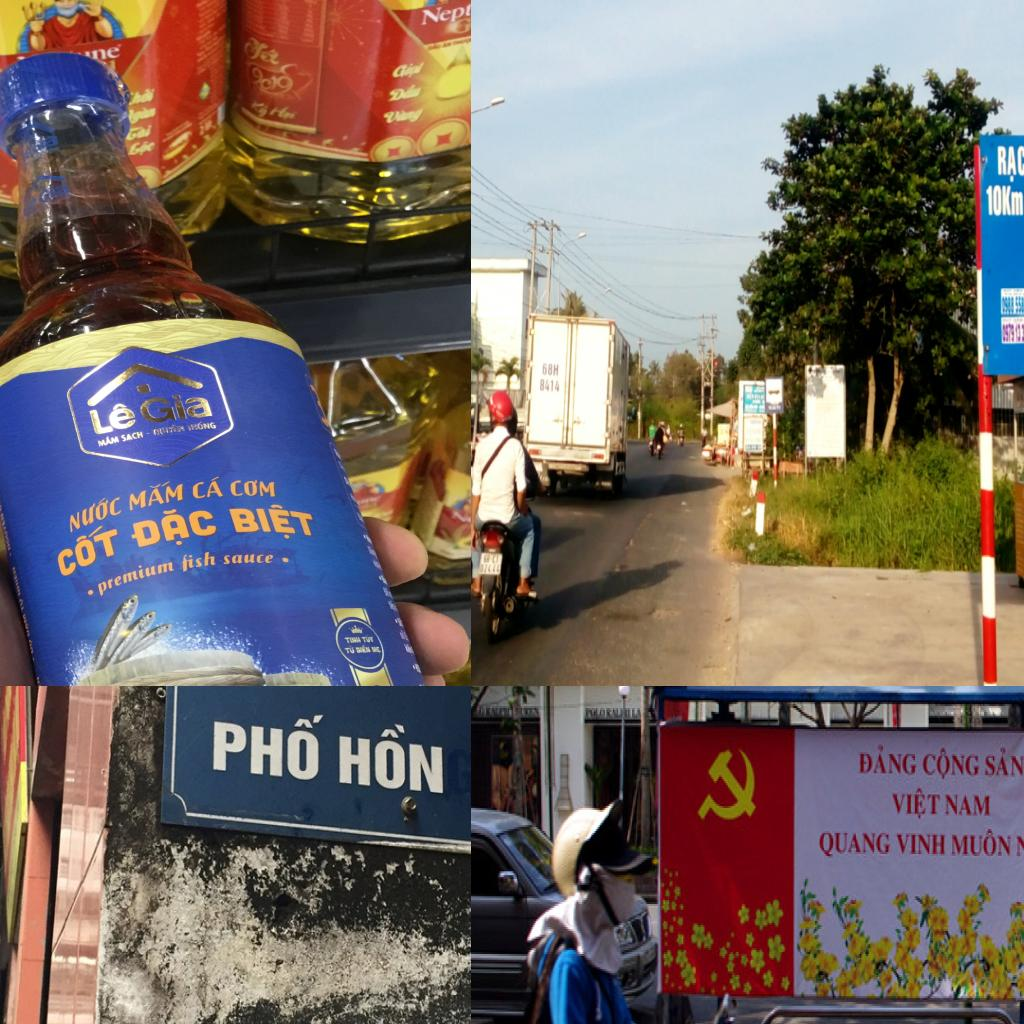text: (212, 702, 326, 784), (336, 717, 444, 795), (124, 503, 220, 556), (52, 522, 122, 578), (92, 556, 176, 598), (226, 505, 316, 543), (134, 390, 217, 426), (818, 827, 893, 862), (64, 492, 123, 534), (923, 746, 980, 785), (126, 478, 186, 514), (856, 743, 919, 777), (951, 827, 1013, 860), (88, 398, 137, 437), (892, 787, 942, 821), (944, 790, 994, 820), (249, 66, 297, 97), (984, 744, 1024, 781), (420, 0, 471, 29), (242, 37, 287, 67), (894, 833, 948, 858), (447, 747, 471, 798), (995, 142, 1024, 184), (177, 548, 219, 574), (188, 474, 224, 502), (230, 478, 278, 498), (383, 106, 425, 126), (1002, 184, 1024, 217), (388, 82, 424, 102), (392, 61, 428, 80), (222, 552, 274, 565), (447, 9, 471, 37), (268, 103, 300, 123), (246, 95, 270, 120), (126, 139, 157, 158), (984, 184, 1002, 216), (124, 124, 154, 142), (148, 423, 186, 437), (130, 105, 156, 125), (94, 432, 122, 448), (130, 87, 154, 105), (1001, 323, 1024, 341), (186, 420, 218, 432), (120, 430, 144, 443), (539, 379, 561, 393), (542, 362, 561, 378), (1001, 296, 1015, 315), (479, 563, 501, 574), (483, 554, 500, 564), (344, 636, 362, 645), (1015, 296, 1024, 314), (355, 645, 372, 654), (361, 634, 375, 643), (344, 645, 356, 655), (371, 646, 383, 654)
